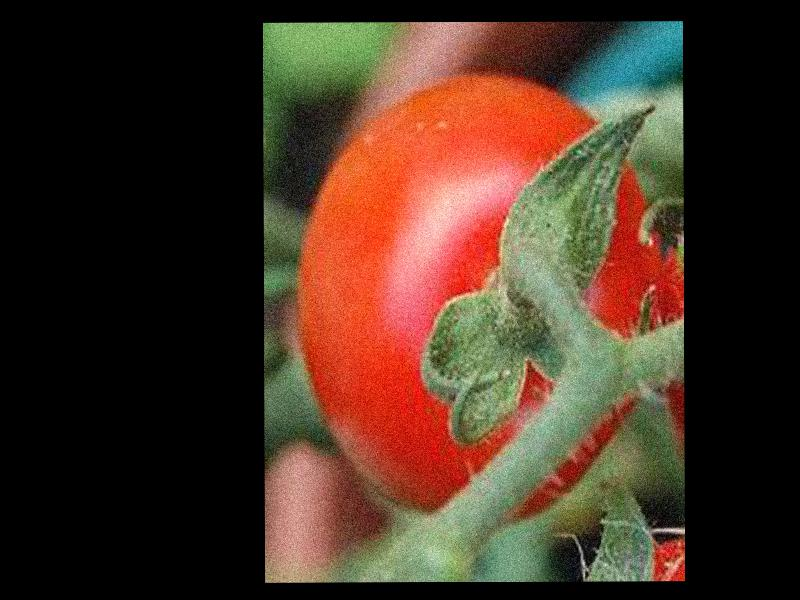Tomato: (298, 73, 674, 527)
